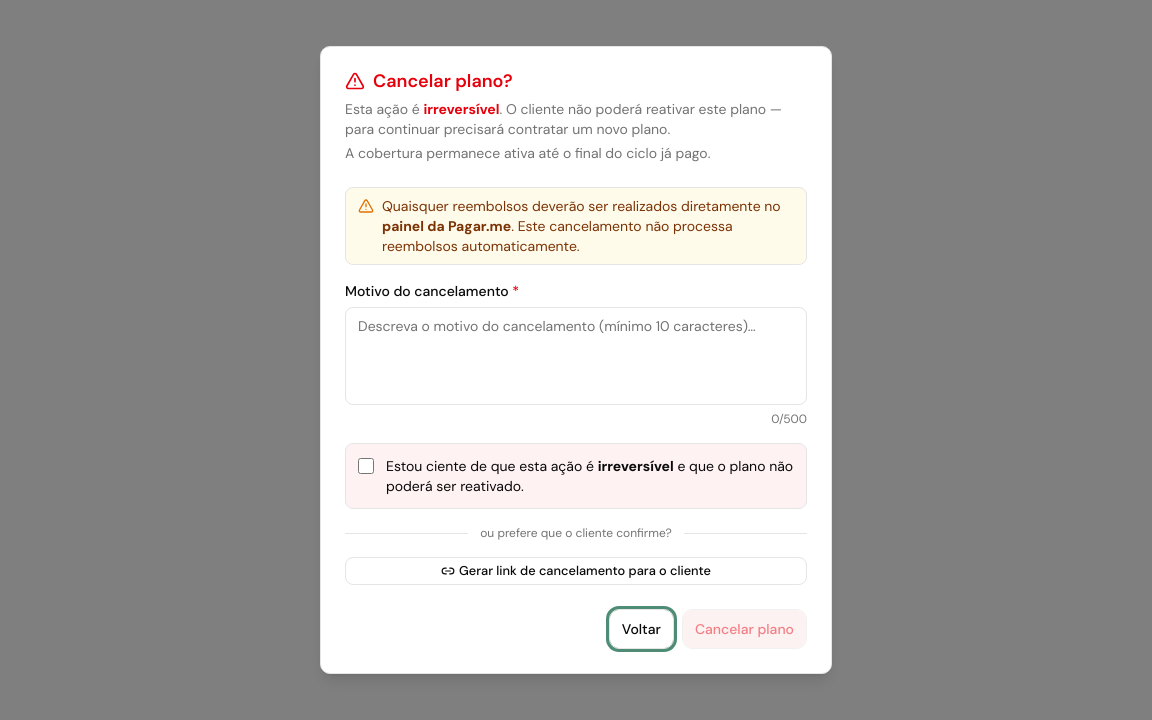
Test: CancelPlanDialog — network error display › should display 503 error message when provider is unavailable
Type "Motivo com mais de dez caracteres." into the text box at (576, 356), box top-left (345, 307), bottom-right (807, 405)
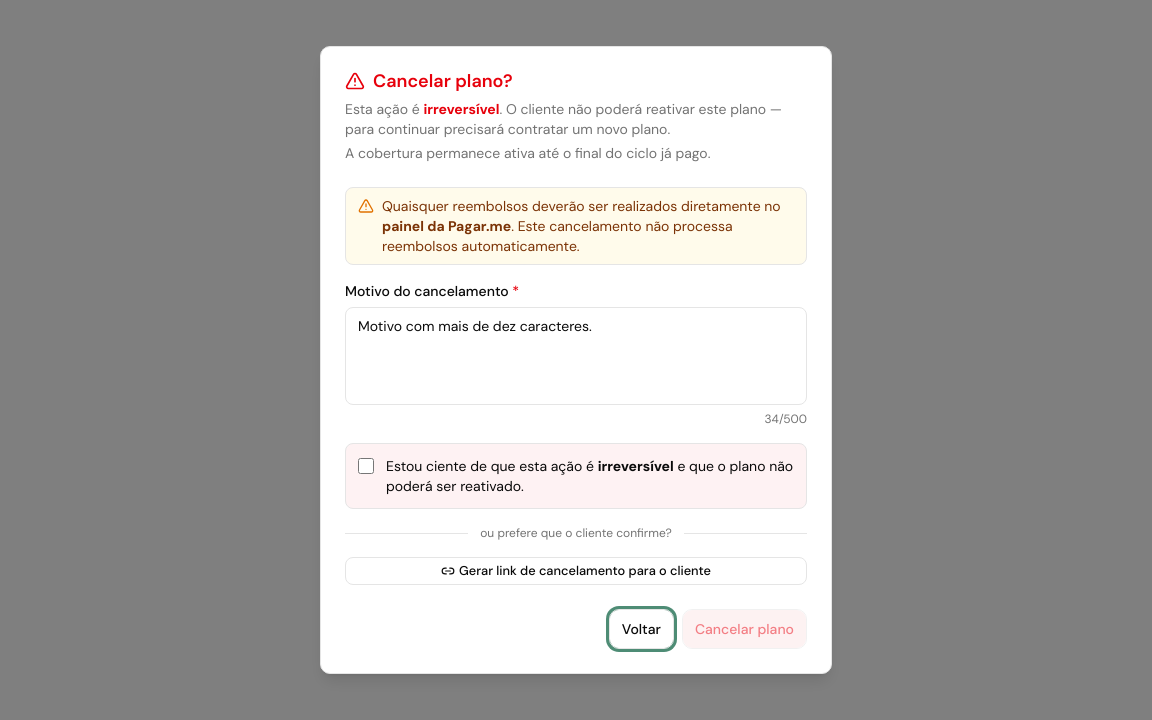
Click the checkbox at (366, 466), box top-left (358, 458), bottom-right (374, 474)
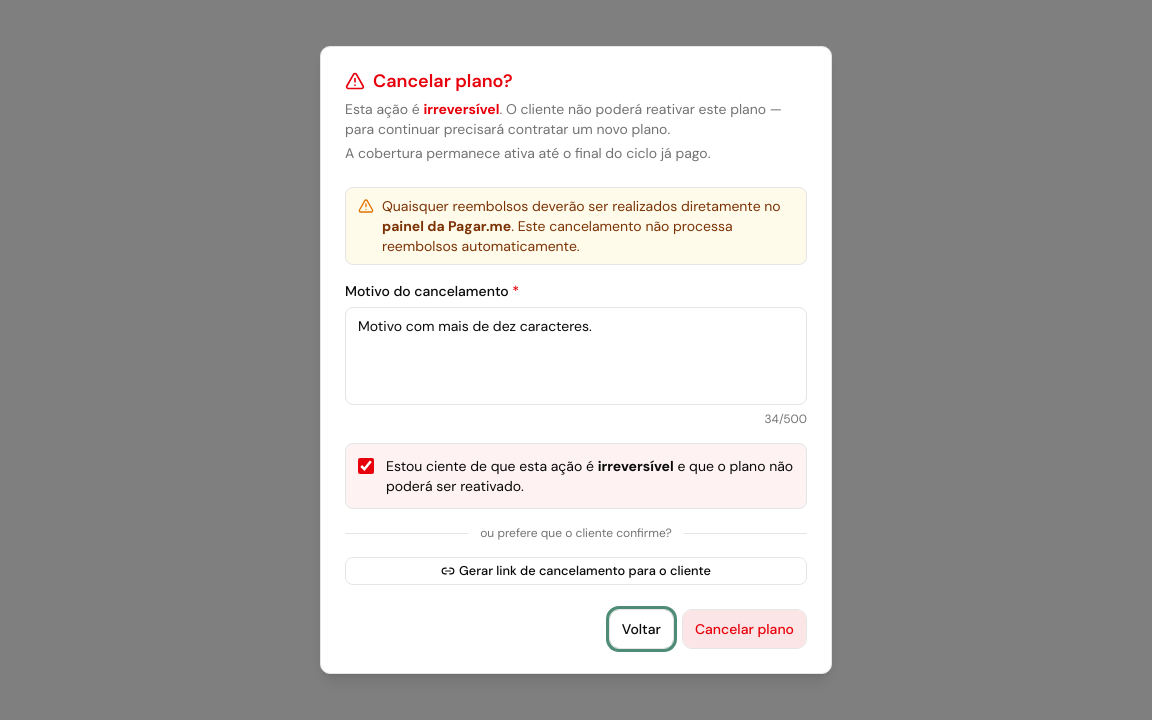
Click the button "Cancelar plano" at (744, 629), box top-left (682, 609), bottom-right (807, 649)
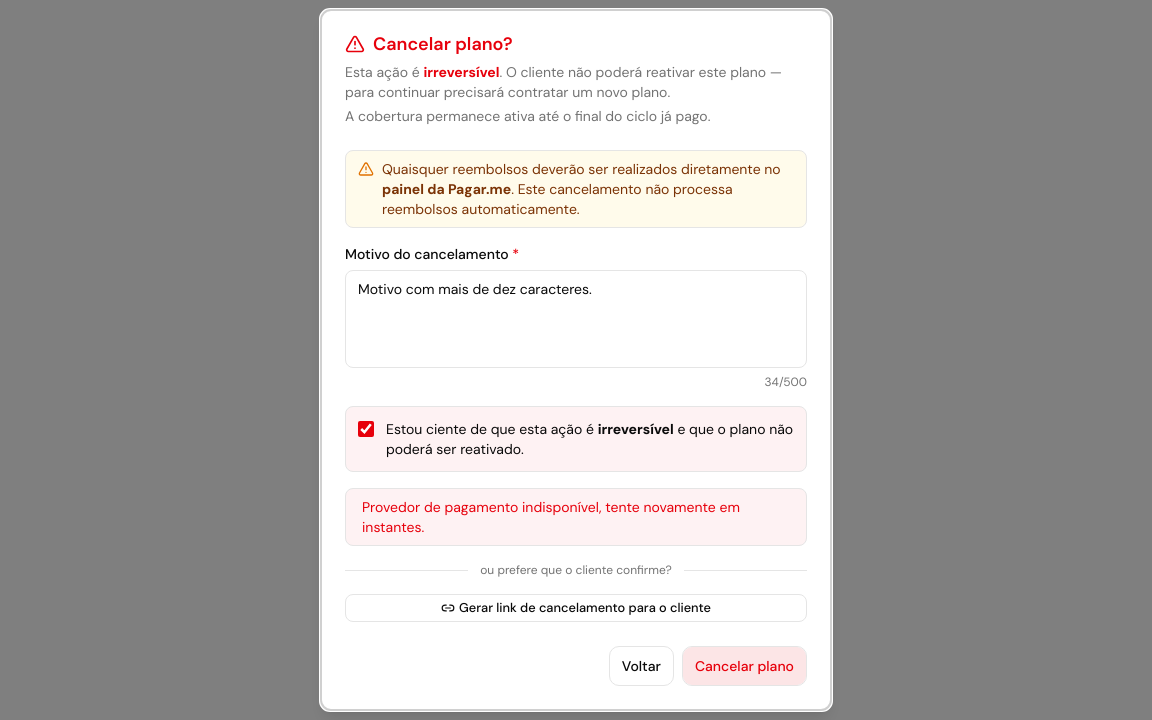
Now the text "Provedor de pagamento indisponível, tente novamente em instantes." is shown, box top-left (345, 488), bottom-right (807, 546)
